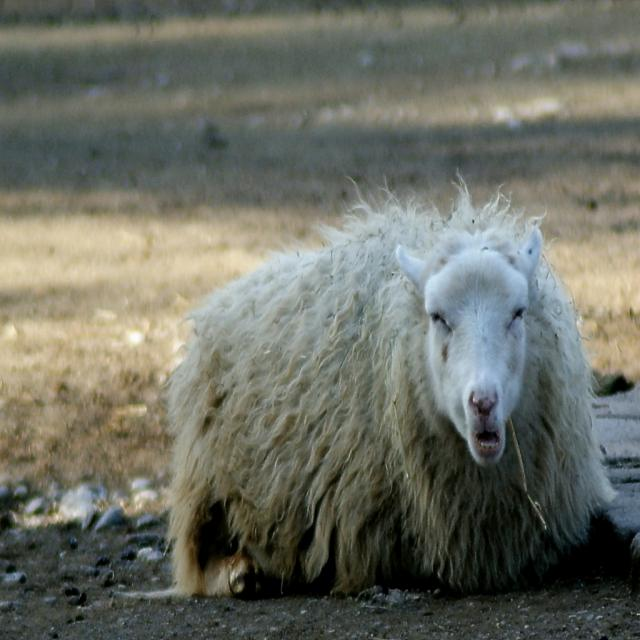Sheep: (122, 166, 622, 601)
